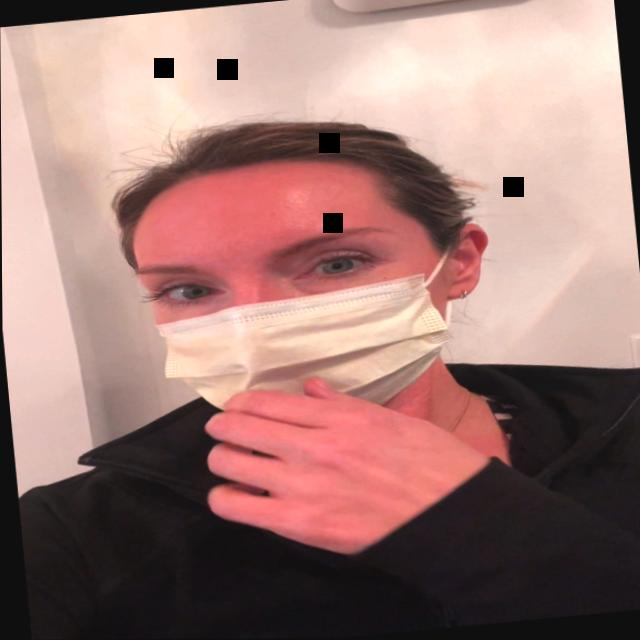Mask: (91, 120, 522, 452)
